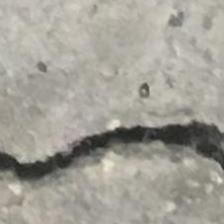Crack: (0, 109, 224, 195)
